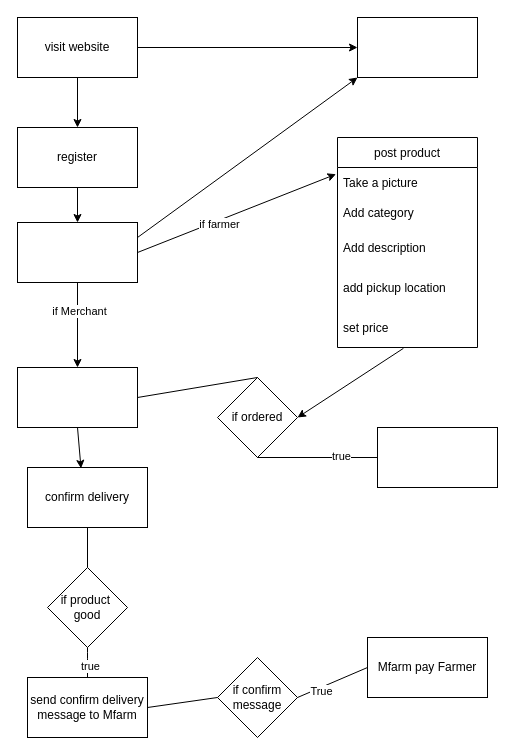
The diagram is 515 pixels wide and 755 high, and some of its shapes have lost their labels. Each missing label, with the centre of its shape:
Deliver product: point (437, 457)
login: point (77, 252)
order product: point (77, 397)
view price trends: point (417, 47)
